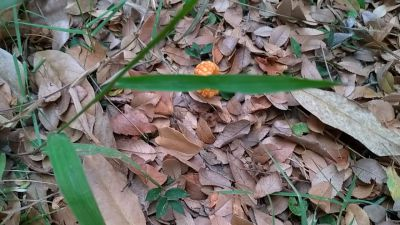eggs: (191, 57, 222, 101)
